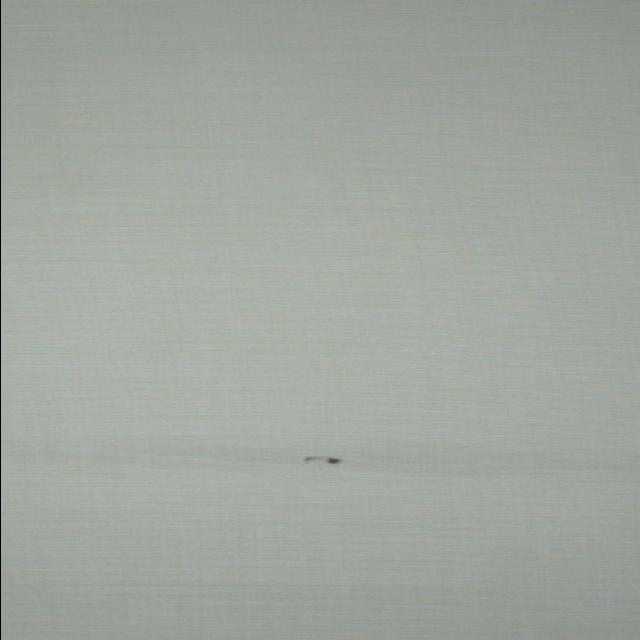dirty: (306, 456, 341, 465)
